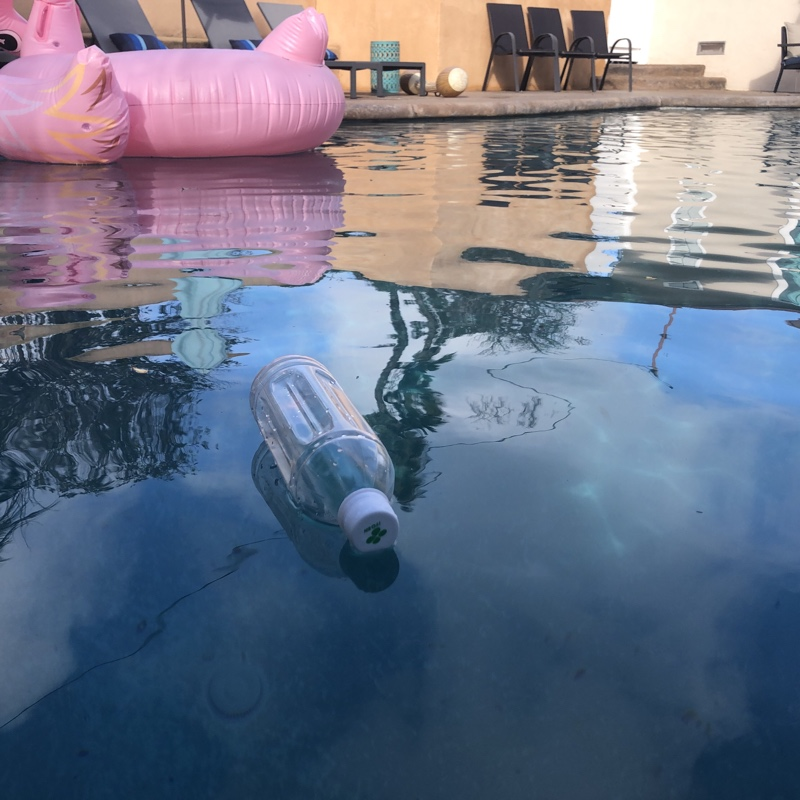Plastic Bottle: (246, 352, 403, 562)
